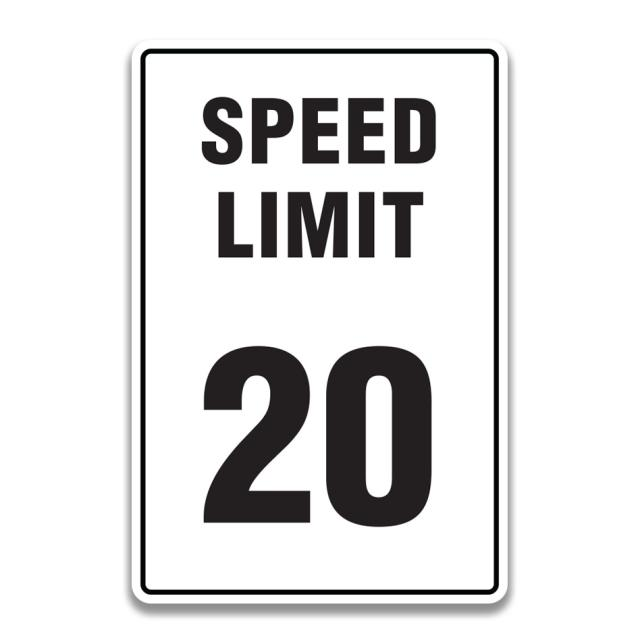speedLimit20: (127, 38, 511, 607)
